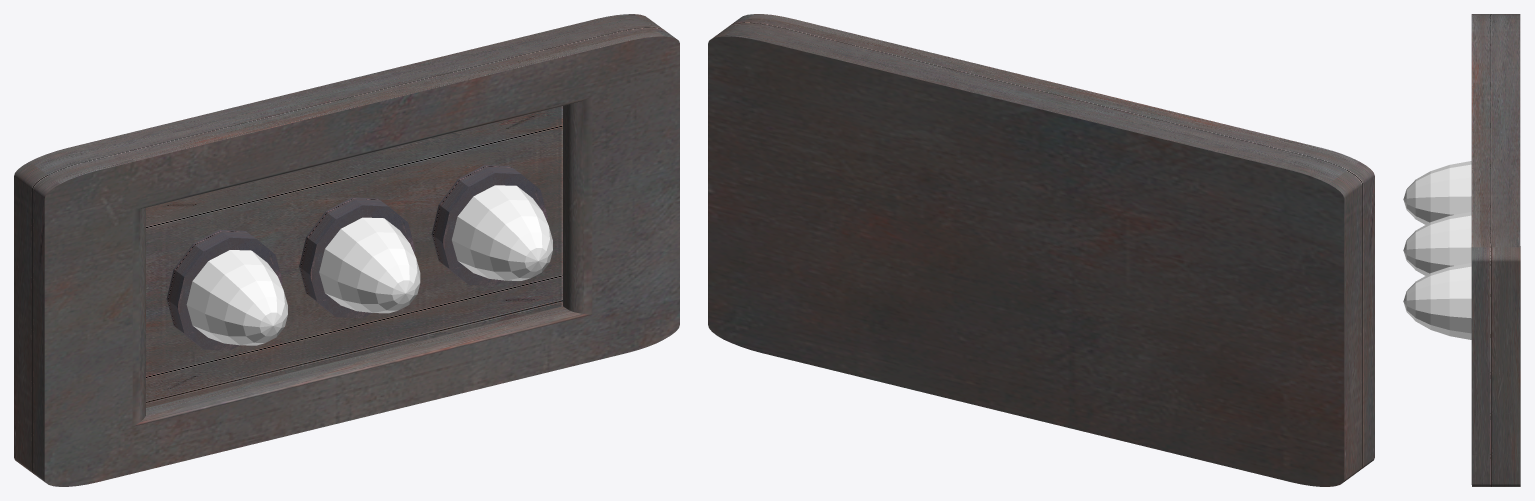
The model's file is LeverLights.fbx.
3 views of the same model, side by side, from view 1: azimuth 30°, elevation 25°; view 2: azimuth 150°, elevation 25°; view 3: azimuth 270°, elevation 25° (orthographic). The views are drawn at different scales.
Visible parts, largest first — view 1: LightBase, pSphere1 (×3), pCylinder1 (×3); view 2: LightBase; view 3: LightBase, pSphere1 (×3).
Boxes of the visible parts, <box> form: LightBase: <box>14,14,679,486</box>; pSphere1 (×3): <box>186,185,552,345</box>; pCylinder1 (×3): <box>166,165,547,350</box>; LightBase: <box>708,14,1374,486</box>; LightBase: <box>1471,14,1520,486</box>; pSphere1 (×3): <box>1403,161,1471,339</box>.
Bounding box in the file's own units: 3.16 × 1.48 × 0.6392.
Materials: 3 (2 with a texture image).
